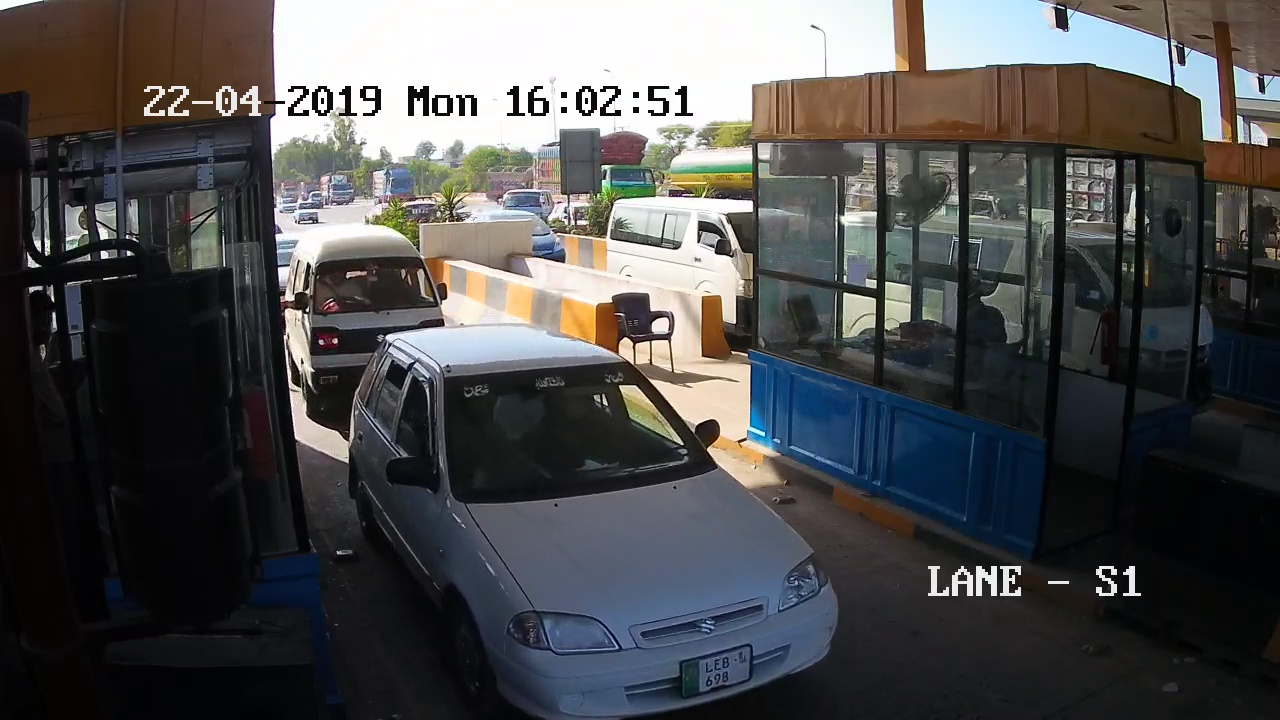Number Plate (Car): (678, 646, 754, 698)
